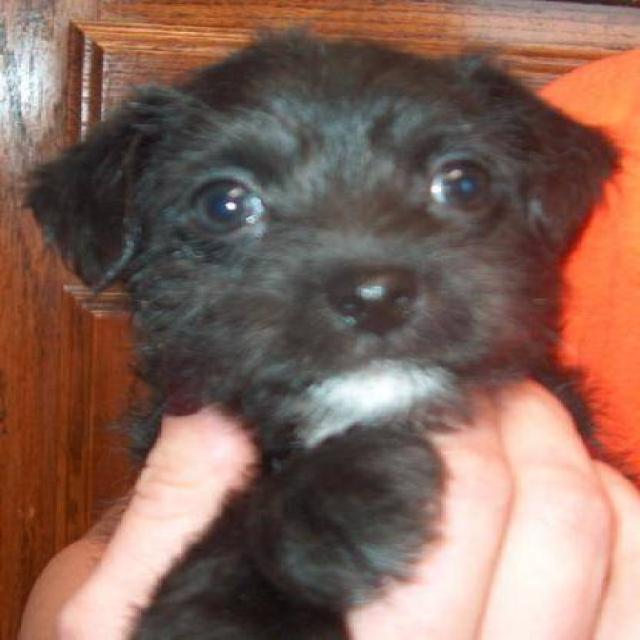dog: (16, 23, 638, 639)
